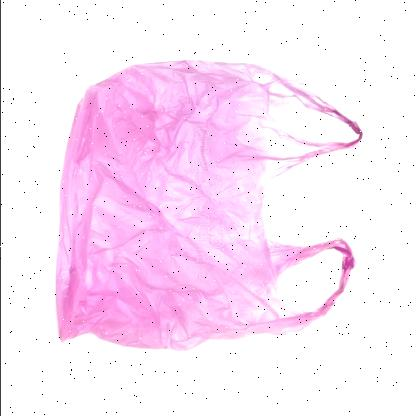Others: (52, 58, 362, 352)
